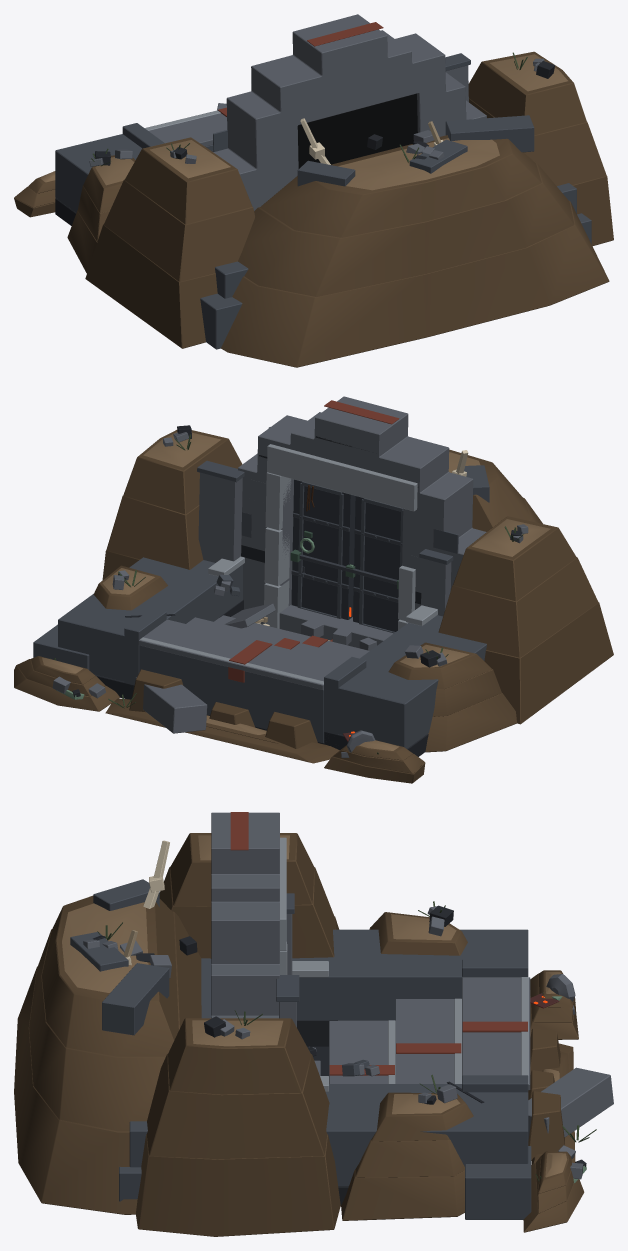
3 views of the same model, one above another, from view 1: azimuth 30°, elevation 25°; view 2: azimuth 150°, elevation 25°; view 3: azimuth 270°, elevation 25° (orthographic). The views are drawn at different scales.
Visible parts, largest first — view 1: DG-earth_dark, DG-ancient, DG-ancient_mid, DG-earth, DG-void, DG-ancient_dark, DG-team; view 2: DG-earth_dark, DG-ancient, DG-ancient_mid, DG-door_stone, DG-ancient_pale, DG-earth, DG-ancient_dark, DG-team, DG-iron; view 3: DG-earth_dark, DG-ancient_mid, DG-ancient, DG-earth, DG-ancient_pale, DG-ancient_dark, DG-team, DG-bone.
Part boxes in pixels (bbox=[...]): DG-earth_dark: bbox=[14, 51, 613, 367]; DG-ancient: bbox=[89, 14, 544, 210]; DG-ancient_mid: bbox=[55, 53, 591, 349]; DG-earth: bbox=[40, 54, 567, 190]; DG-void: bbox=[297, 93, 417, 168]; DG-ancient_dark: bbox=[55, 61, 554, 225]; DG-team: bbox=[218, 22, 383, 116]; DG-earth_dark: bbox=[14, 430, 613, 783]; DG-ancient: bbox=[52, 396, 528, 757]; DG-ancient_mid: bbox=[33, 427, 489, 748]; DG-door_stone: bbox=[291, 479, 400, 631]; DG-ancient_pale: bbox=[140, 444, 437, 684]; DG-earth: bbox=[42, 432, 550, 750]; DG-ancient_dark: bbox=[72, 425, 522, 756]; DG-team: bbox=[228, 400, 399, 682]; DG-iron: bbox=[291, 482, 402, 602]; DG-earth_dark: bbox=[14, 833, 584, 1236]; DG-ancient_mid: bbox=[70, 879, 531, 1219]; DG-ancient: bbox=[83, 812, 613, 1179]; DG-earth: bbox=[62, 835, 567, 1177]; DG-ancient_pale: bbox=[280, 837, 528, 1092]; DG-ancient_dark: bbox=[93, 905, 586, 1205]; DG-team: bbox=[230, 812, 527, 1075]; DG-bone: bbox=[125, 840, 169, 965].
Size of the model in its own units: 10.08 by 4.94 by 9.93.
